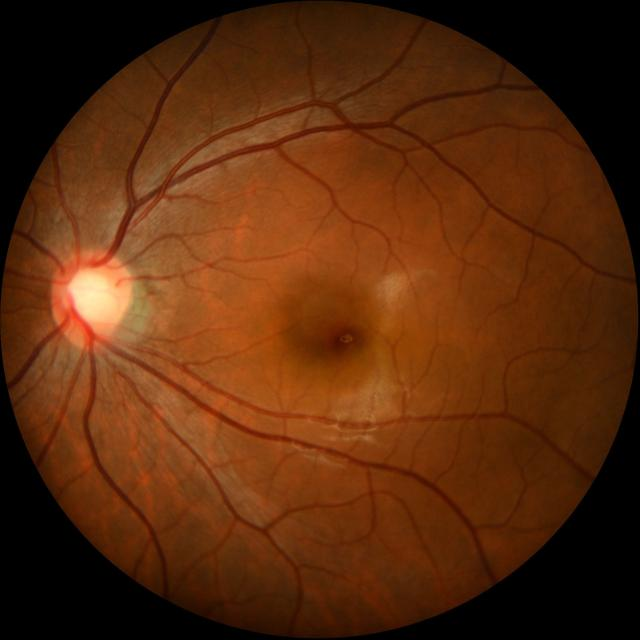OC: (67, 266, 114, 321)
OD: (49, 249, 130, 346)
